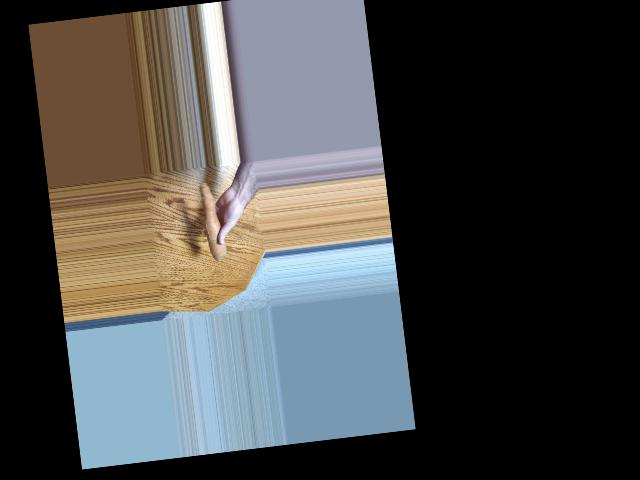sweet_potato: (197, 178, 224, 260)
